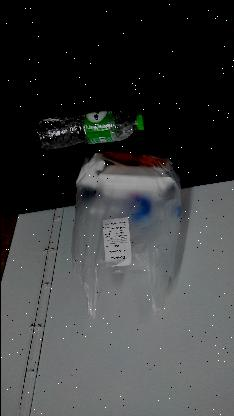Others: (67, 153, 183, 321), (100, 214, 132, 265)
Plastic Bottle: (27, 101, 148, 150)
